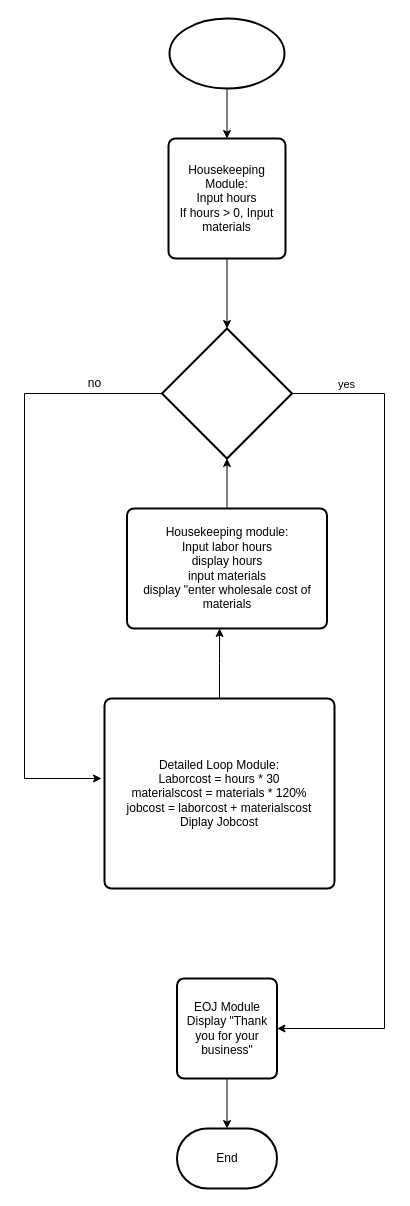
This 410x1206 diagram has some shape labels left out. Each missing label, with the centre of its shape:
"Hours = 0" belongs at point (226, 393).
"Start" belongs at point (226, 53).
